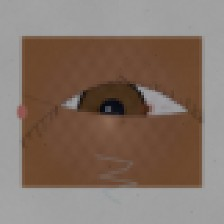foreign_body_visible: (138, 101, 158, 117)
